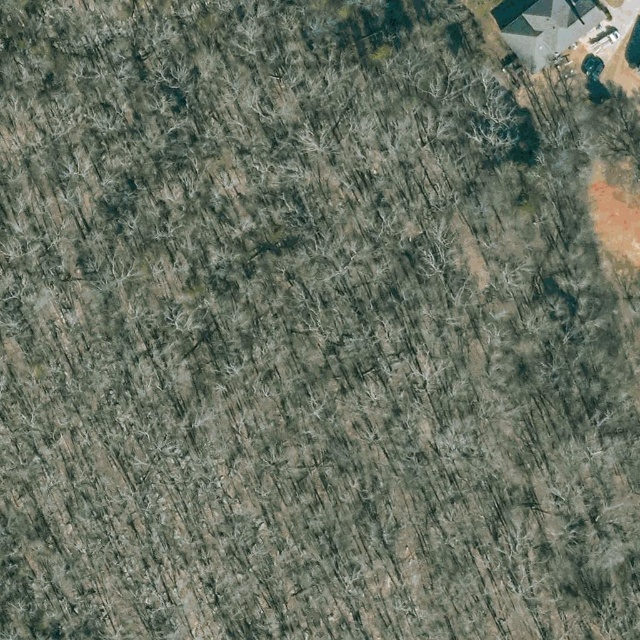vegetation: (0, 0, 640, 640)
